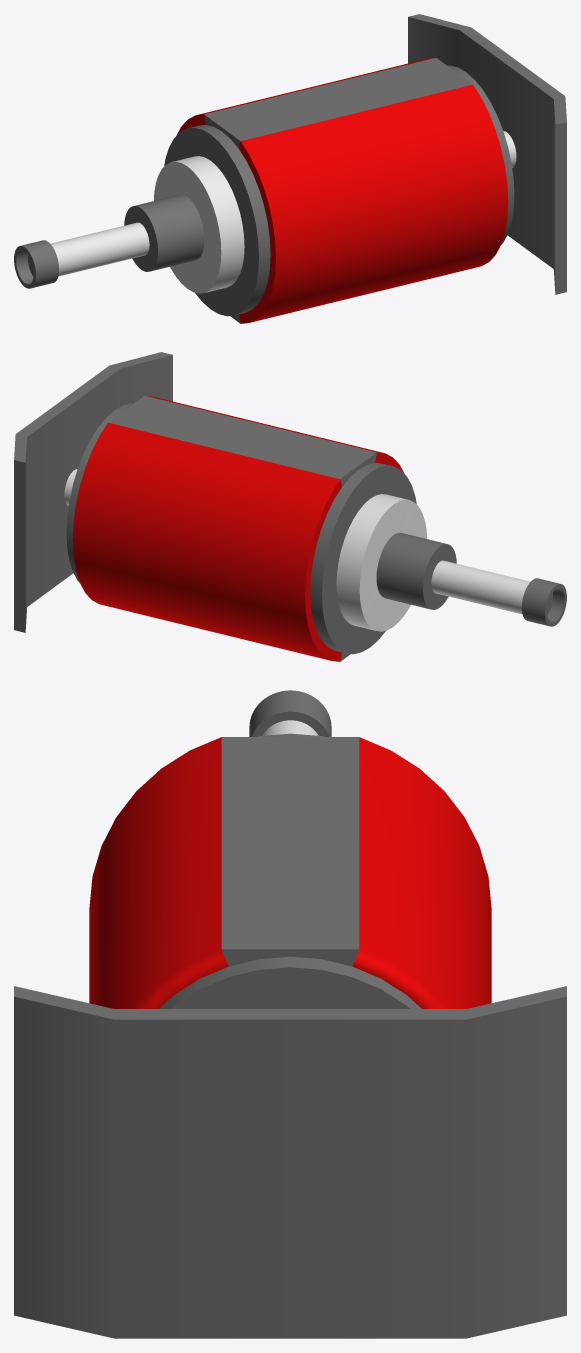
The model's file is turret_bullet.fbx.
3 renders of one model, top to bottom at view 1: azimuth 30°, elevation 25°; view 2: azimuth 150°, elevation 25°; view 3: azimuth 270°, elevation 25°, orthographic. The views are drawn at different scales.
Parts seen in each view (by area): view 1: turret_bullet_base, turret_bullet_barrel; view 2: turret_bullet_base, turret_bullet_barrel; view 3: turret_bullet_base, turret_bullet_barrel.
Boxes of the visible parts, x1=… form: turret_bullet_base: x1=124, y1=14, x2=566, y2=323; turret_bullet_barrel: x1=14, y1=222, x2=149, y2=288; turret_bullet_base: x1=14, y1=352, x2=456, y2=661; turret_bullet_barrel: x1=431, y1=560, x2=566, y2=626; turret_bullet_base: x1=14, y1=733, x2=566, y2=1338; turret_bullet_barrel: x1=249, y1=690, x2=331, y2=736.
Bounding box in the file's own units: 2.12 × 0.7518 × 1.1.
